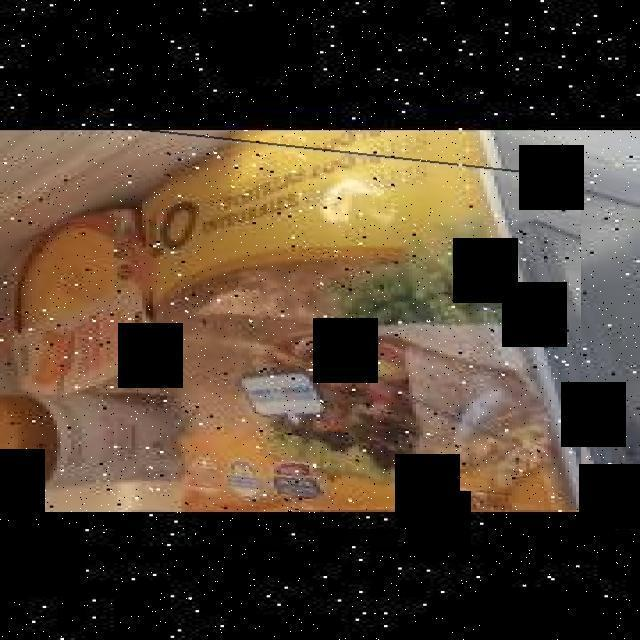tortillas: (137, 128, 581, 510)
